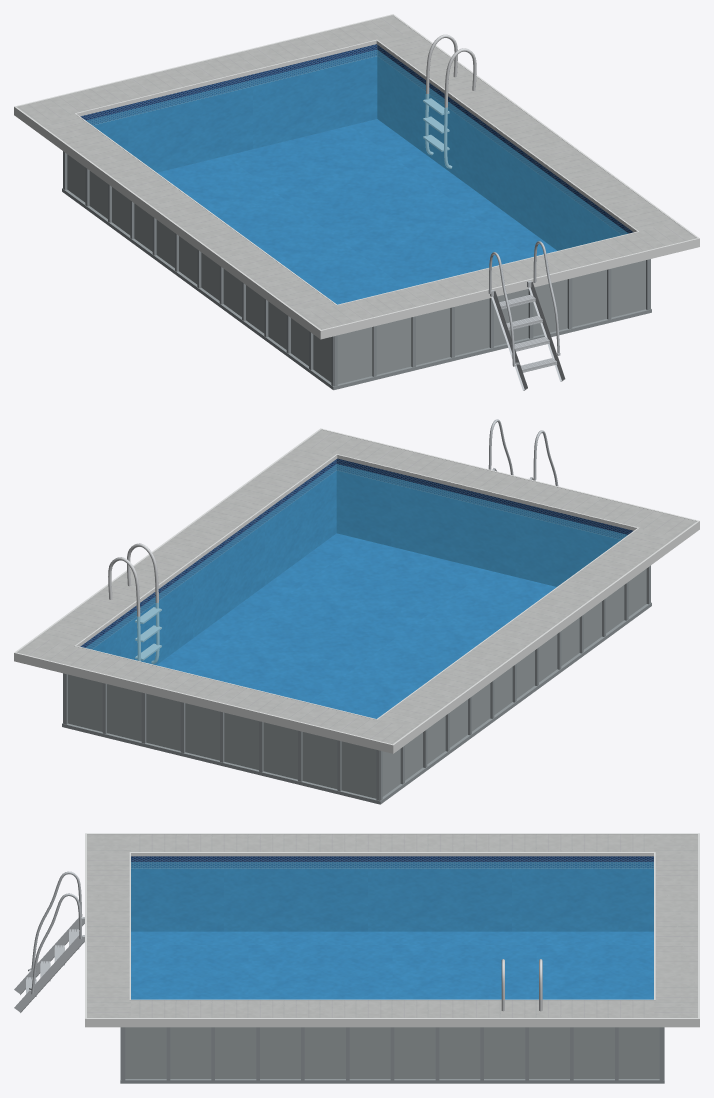
The model's file is kayak-pool-16x24-gray-walk-ag-nofence.8a3aa35e5f.glb.
3 renders of one model, top to bottom at view 1: azimuth 30°, elevation 25°; view 2: azimuth 150°, elevation 25°; view 3: azimuth 270°, elevation 25°, orthographic.
Parts seen in each view (by area): view 1: water, liner_floor, liner_wall, deck, wall, fascia, upright, ladder, steel; view 2: water, liner_floor, liner_wall, deck, wall, fascia, upright, steel, ladder; view 3: water, liner_wall, liner_floor, deck, wall, fascia, upright, ladder, steel.
Part boxes in pixels (x1,y1,x2,y2): water: (86, 49, 628, 304); liner_floor: (157, 119, 556, 304); liner_wall: (80, 44, 633, 250); deck: (17, 15, 696, 329); wall: (67, 154, 645, 384); fascia: (14, 14, 699, 339); upright: (62, 151, 651, 390); ladder: (488, 241, 565, 390); steel: (423, 34, 476, 168); water: (85, 464, 627, 718); liner_floor: (157, 533, 556, 718); liner_wall: (80, 458, 633, 664); deck: (17, 429, 696, 744); wall: (68, 569, 646, 798); fascia: (14, 428, 699, 753); upright: (62, 565, 651, 804); steel: (108, 543, 161, 663); ladder: (488, 419, 558, 485); water: (131, 862, 653, 999); liner_wall: (131, 856, 653, 931); liner_floor: (131, 931, 653, 999); deck: (87, 834, 697, 1017); wall: (125, 1027, 659, 1078); fascia: (85, 833, 699, 1027); upright: (120, 1027, 664, 1083); ladder: (14, 871, 84, 1012); steel: (501, 959, 542, 1011).
Size of the model in its own units: 6.1 by 1.9 by 9.52.
Materials: 10 (3 with a texture image).
